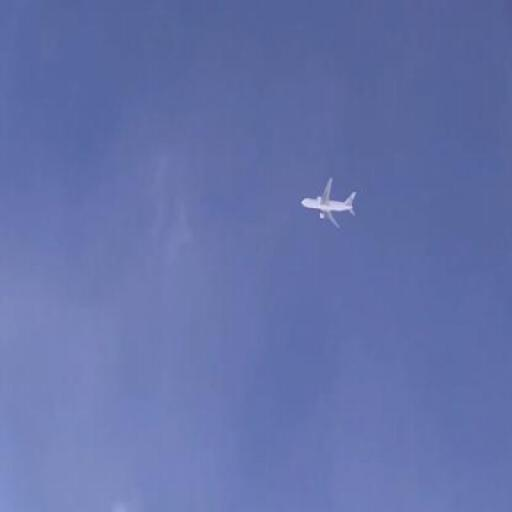aircraft: (300, 180, 357, 230)
